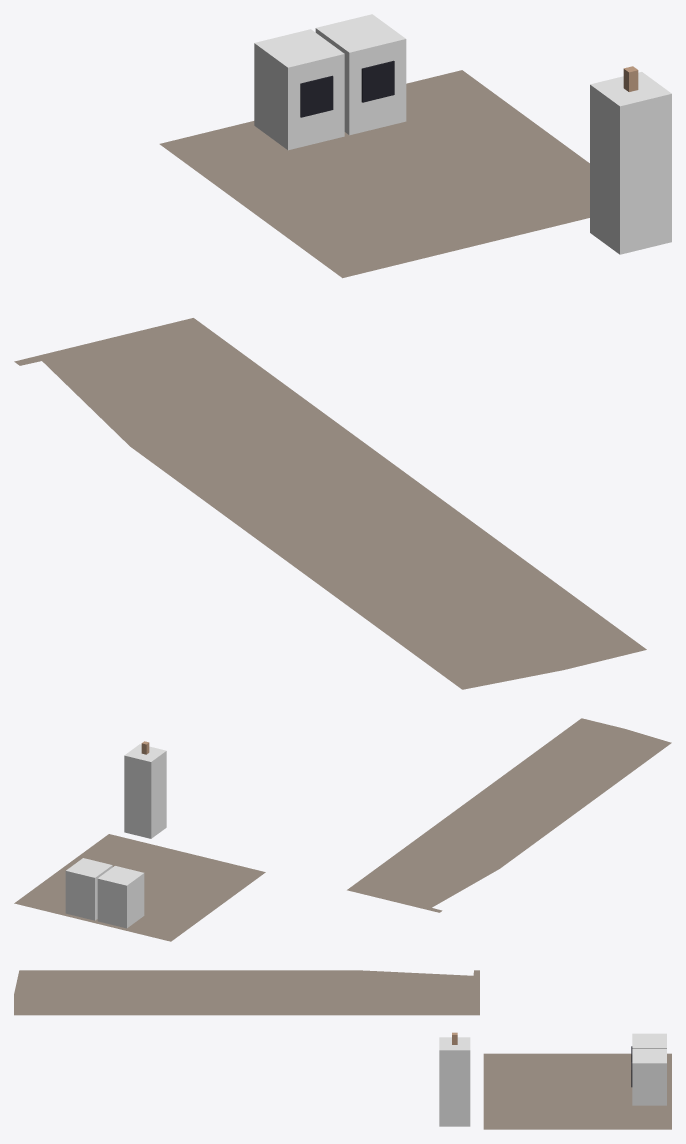
Rendered from fine-s0.glb.
3 renders of one model, top to bottom at view 1: azimuth 30°, elevation 25°; view 2: azimuth 150°, elevation 25°; view 3: azimuth 270°, elevation 25°, orthographic. The views are drawn at different scales.
Parts seen in each view (by area): view 1: soft-s0, water-heater.000, washer.000, washer.001; view 2: soft-s0, water-heater.000, washer.000, washer.001; view 3: soft-s0, water-heater.000, washer.001, washer.000.
Part boxes in pixels (<box>): soft-s0: <box>14,70,646,689</box>; water-heater.000: <box>590,66,671,254</box>; washer.000: <box>254,29,344,150</box>; washer.001: <box>315,14,406,135</box>; soft-s0: <box>14,718,671,941</box>; water-heater.000: <box>124,741,166,838</box>; washer.000: <box>97,866,144,928</box>; washer.001: <box>65,858,112,920</box>; soft-s0: <box>14,970,671,1129</box>; water-heater.000: <box>439,1032,470,1126</box>; washer.001: <box>631,1049,666,1105</box>; washer.000: <box>631,1033,666,1061</box>.
Bounding box in the file's own units: 6.72 × 1.7 × 11.73.
